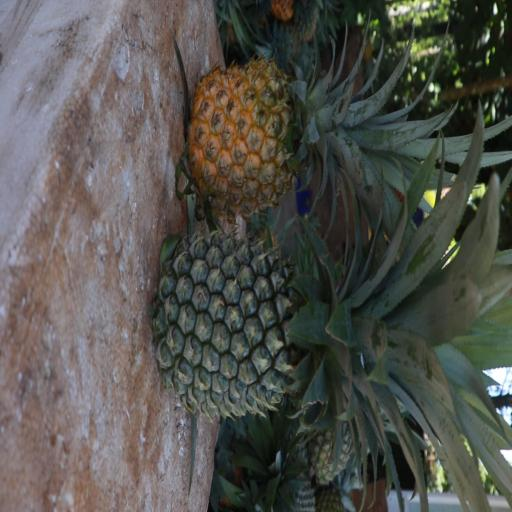Pineapple - v8 v1: (190, 68, 448, 208)
